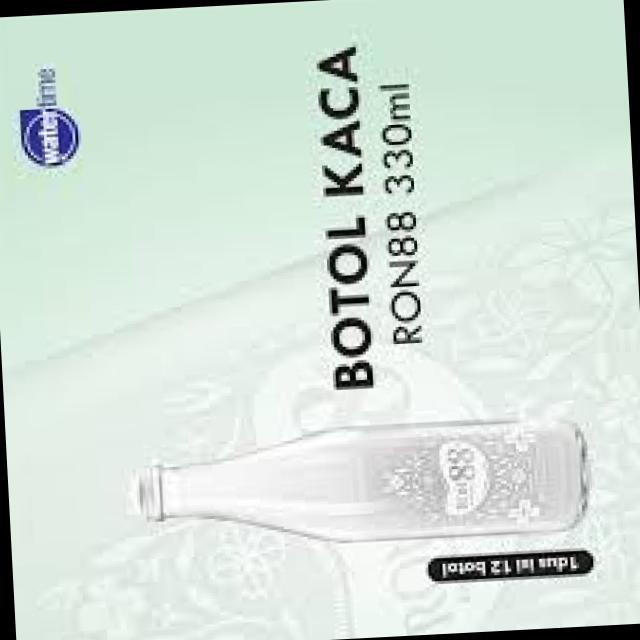good: (123, 408, 592, 550)
